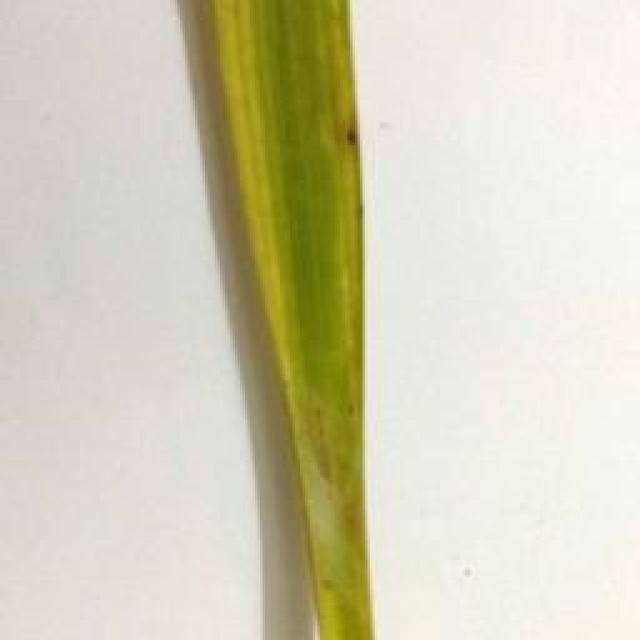Bacterial_Blight: (287, 383, 348, 558)
Brown_Spot: (336, 106, 364, 162)
